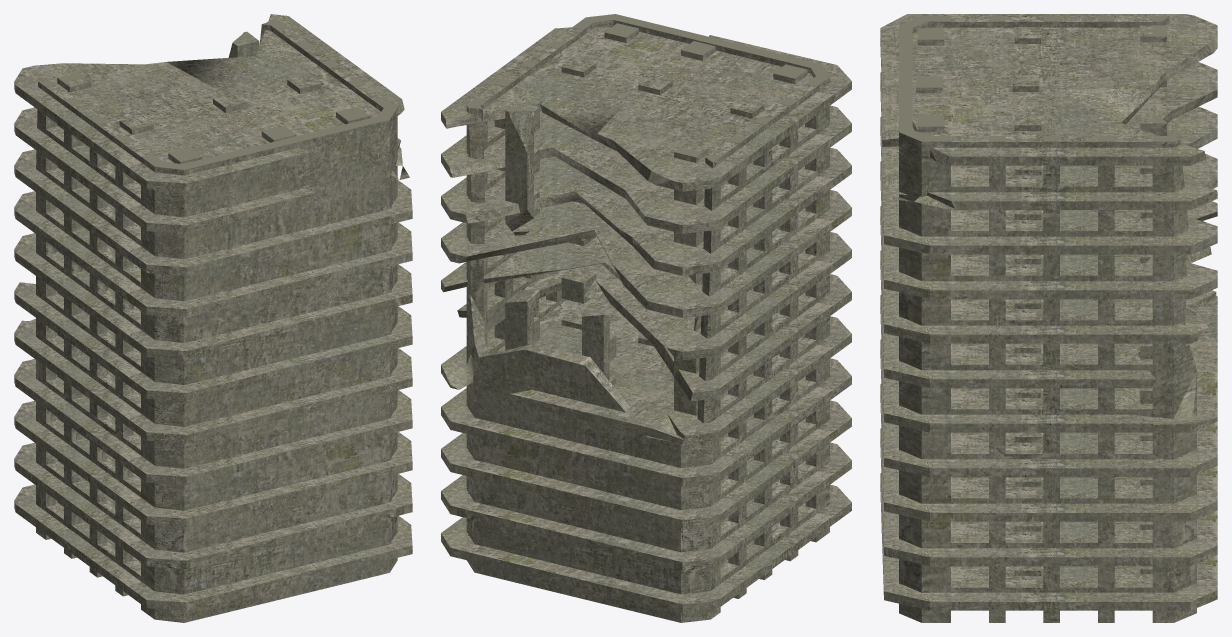
The picture shows the model from 3 angles, left to right: view 1: azimuth 30°, elevation 25°; view 2: azimuth 150°, elevation 25°; view 3: azimuth 270°, elevation 25°; orthographic projection. The views are drawn at different scales.
Parts seen in each view (by area): view 1: Cube.005_2; view 2: Cube.005_2; view 3: Cube.005_2.
Boxes of the visible parts, bbox=[...] form: Cube.005_2: bbox=[14, 14, 412, 622]; Cube.005_2: bbox=[441, 14, 851, 622]; Cube.005_2: bbox=[880, 14, 1217, 622].
Bounding box in the file's own units: 2.55 × 4.01 × 2.55.
Materials: 1 (1 with a texture image).
